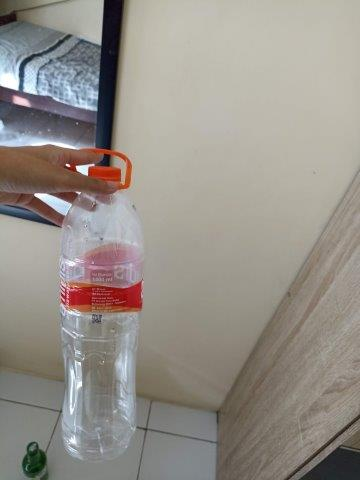botolplastik: (57, 164, 142, 457)
